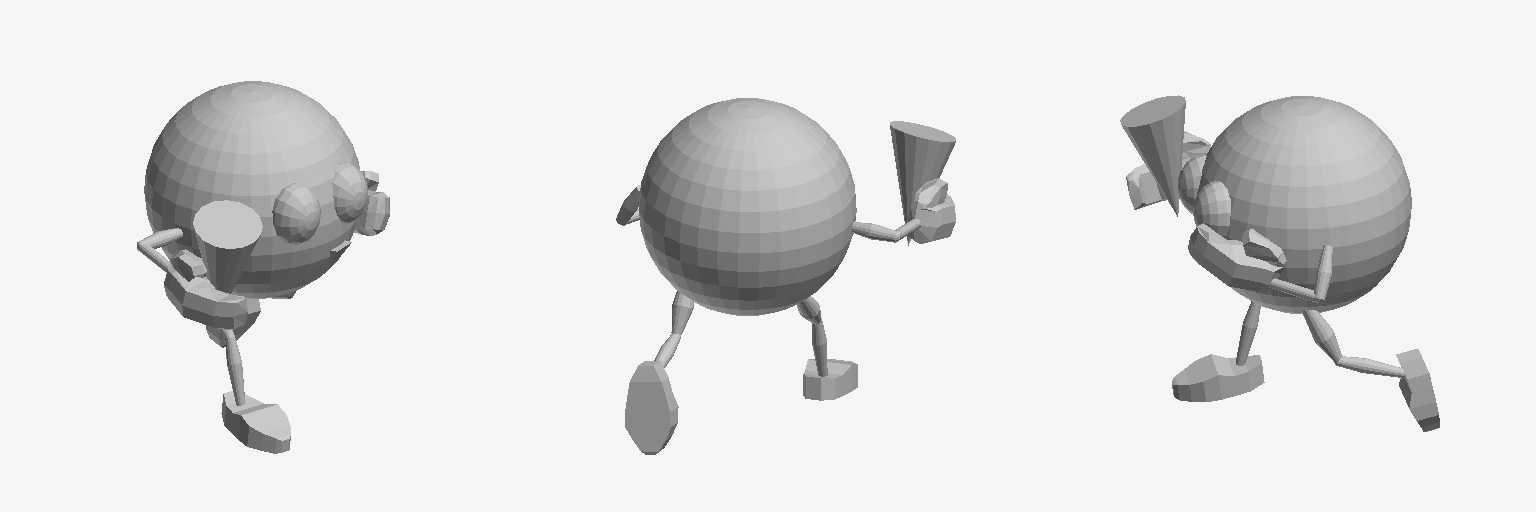
The model's file is Rusko_ani_04_000027.obj.
3 views of the same model, side by side, from view 1: azimuth 30°, elevation 25°; view 2: azimuth 150°, elevation 25°; view 3: azimuth 270°, elevation 25° (orthographic).
Visible parts, largest first — view 1: Rusko_Sphere; view 2: Rusko_Sphere; view 3: Rusko_Sphere.
Boxes of the visible parts, <box> form: Rusko_Sphere: <box>137,81,389,453</box>; Rusko_Sphere: <box>616,98,955,454</box>; Rusko_Sphere: <box>1120,95,1439,431</box>.
Size of the model in its own units: 5.54 by 6.23 by 5.85.